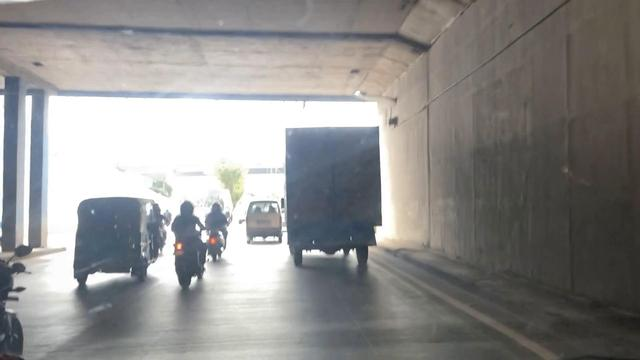HMV: (287, 128, 382, 271)
LMV: (74, 196, 155, 286), (170, 199, 206, 286), (207, 196, 236, 261), (250, 200, 282, 244)
